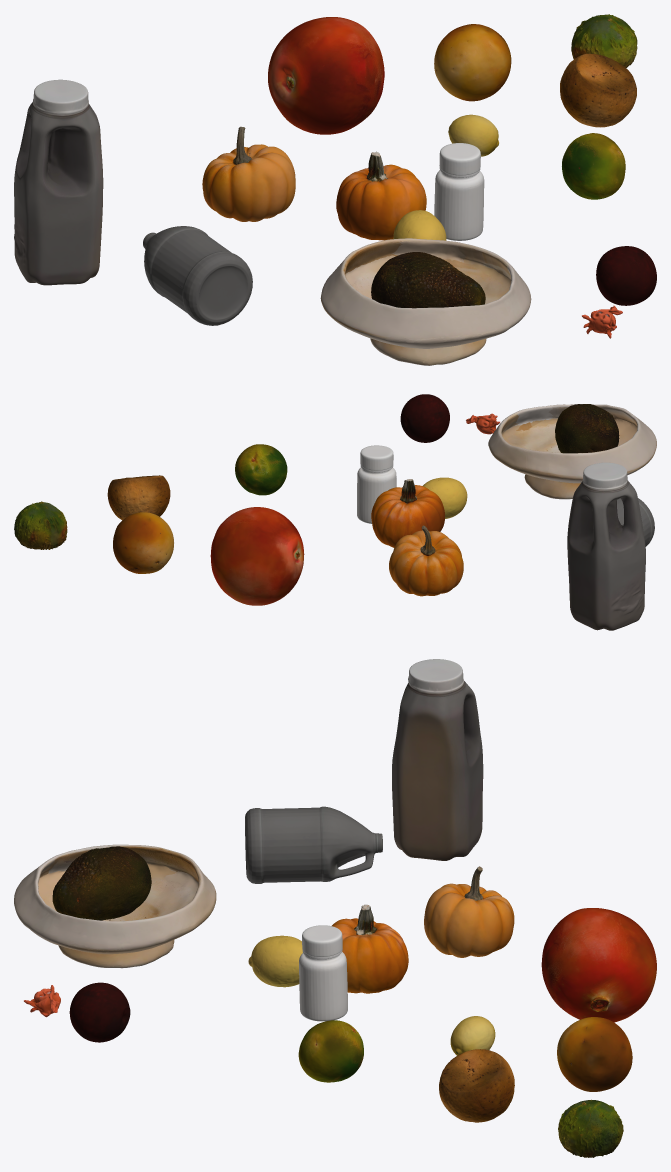
File: simfoundry.glb
The picture shows the model from 3 angles, top to bottom: view 1: azimuth 30°, elevation 25°; view 2: azimuth 150°, elevation 25°; view 3: azimuth 270°, elevation 25°; orthographic projection. The views are drawn at different scales.
Visible parts, largest first — view 1: gray_plastic_bottle_vklydo_link_iter_12_canonical_mesh_obj, white_bowl_awdfdw_link_iter_3_canonical_mesh_obj, red_pomegranate_uqorab_link_iter_13_canonical_mesh_obj, gray_plastic_jug_hryyqx_link_iter_8_canonical_mesh_obj, orange_pumpkin_klendf_link_iter_11_canonical_mesh_obj, orange_pumpkin_jcfxro_link_iter_7_canonical_mesh_obj, avocado_lrahun_link_iter_2_canonical_mesh_obj, orange_fruit_frlnzt_link_iter_14_canonical_mesh_obj, orange_fruit_xelutn_link_iter_9_canonical_mesh_obj, white_bottle_errjdg_link_iter_5_canonical_mesh_obj, green_lime_kcfnfc_link_iter_6_canonical_mesh_obj, red_onion_yjcrbx_link_iter_1_canonical_mesh_obj (+4 smaller); view 2: gray_plastic_bottle_vklydo_link_iter_12_canonical_mesh_obj, white_bowl_awdfdw_link_iter_3_canonical_mesh_obj, red_pomegranate_uqorab_link_iter_13_canonical_mesh_obj, orange_pumpkin_klendf_link_iter_11_canonical_mesh_obj, orange_pumpkin_jcfxro_link_iter_7_canonical_mesh_obj, orange_fruit_frlnzt_link_iter_14_canonical_mesh_obj, avocado_lrahun_link_iter_2_canonical_mesh_obj, orange_fruit_xelutn_link_iter_9_canonical_mesh_obj, white_bottle_errjdg_link_iter_5_canonical_mesh_obj, green_lime_kcfnfc_link_iter_6_canonical_mesh_obj, green_lime_drcyea_link_iter_15_canonical_mesh_obj, red_onion_yjcrbx_link_iter_1_canonical_mesh_obj (+3 smaller); view 3: gray_plastic_bottle_vklydo_link_iter_12_canonical_mesh_obj, white_bowl_awdfdw_link_iter_3_canonical_mesh_obj, red_pomegranate_uqorab_link_iter_13_canonical_mesh_obj, gray_plastic_jug_hryyqx_link_iter_8_canonical_mesh_obj, avocado_lrahun_link_iter_2_canonical_mesh_obj, orange_pumpkin_klendf_link_iter_11_canonical_mesh_obj, orange_fruit_frlnzt_link_iter_14_canonical_mesh_obj, orange_fruit_xelutn_link_iter_9_canonical_mesh_obj, orange_pumpkin_jcfxro_link_iter_7_canonical_mesh_obj, white_bottle_errjdg_link_iter_5_canonical_mesh_obj, green_lime_kcfnfc_link_iter_6_canonical_mesh_obj, green_lime_drcyea_link_iter_15_canonical_mesh_obj (+3 smaller).
Part boxes in pixels (bbox=[...]): gray_plastic_bottle_vklydo_link_iter_12_canonical_mesh_obj: bbox=[14, 79, 103, 285]; white_bowl_awdfdw_link_iter_3_canonical_mesh_obj: bbox=[320, 238, 531, 365]; red_pomegranate_uqorab_link_iter_13_canonical_mesh_obj: bbox=[268, 17, 384, 134]; gray_plastic_jug_hryyqx_link_iter_8_canonical_mesh_obj: bbox=[143, 226, 252, 325]; orange_pumpkin_klendf_link_iter_11_canonical_mesh_obj: bbox=[202, 126, 295, 221]; orange_pumpkin_jcfxro_link_iter_7_canonical_mesh_obj: bbox=[336, 151, 426, 240]; avocado_lrahun_link_iter_2_canonical_mesh_obj: bbox=[371, 252, 485, 308]; orange_fruit_frlnzt_link_iter_14_canonical_mesh_obj: bbox=[434, 24, 511, 101]; orange_fruit_xelutn_link_iter_9_canonical_mesh_obj: bbox=[560, 53, 636, 127]; white_bottle_errjdg_link_iter_5_canonical_mesh_obj: bbox=[434, 143, 484, 240]; green_lime_kcfnfc_link_iter_6_canonical_mesh_obj: bbox=[562, 133, 625, 199]; red_onion_yjcrbx_link_iter_1_canonical_mesh_obj: bbox=[596, 246, 656, 305]; gray_plastic_bottle_vklydo_link_iter_12_canonical_mesh_obj: bbox=[567, 462, 645, 630]; white_bowl_awdfdw_link_iter_3_canonical_mesh_obj: bbox=[488, 404, 656, 499]; red_pomegranate_uqorab_link_iter_13_canonical_mesh_obj: bbox=[210, 507, 304, 605]; orange_pumpkin_klendf_link_iter_11_canonical_mesh_obj: bbox=[389, 525, 463, 596]; orange_pumpkin_jcfxro_link_iter_7_canonical_mesh_obj: bbox=[371, 479, 444, 547]; orange_fruit_frlnzt_link_iter_14_canonical_mesh_obj: bbox=[113, 512, 173, 573]; avocado_lrahun_link_iter_2_canonical_mesh_obj: bbox=[555, 404, 619, 453]; orange_fruit_xelutn_link_iter_9_canonical_mesh_obj: bbox=[107, 475, 170, 520]; white_bottle_errjdg_link_iter_5_canonical_mesh_obj: bbox=[357, 445, 396, 523]; green_lime_kcfnfc_link_iter_6_canonical_mesh_obj: bbox=[235, 444, 287, 495]; green_lime_drcyea_link_iter_15_canonical_mesh_obj: bbox=[14, 501, 67, 549]; red_onion_yjcrbx_link_iter_1_canonical_mesh_obj: bbox=[400, 394, 449, 442]; gray_plastic_bottle_vklydo_link_iter_12_canonical_mesh_obj: bbox=[392, 659, 483, 860]; white_bowl_awdfdw_link_iter_3_canonical_mesh_obj: bbox=[14, 844, 216, 968]; red_pomegranate_uqorab_link_iter_13_canonical_mesh_obj: bbox=[541, 908, 656, 1022]; gray_plastic_jug_hryyqx_link_iter_8_canonical_mesh_obj: bbox=[245, 806, 382, 883]; avocado_lrahun_link_iter_2_canonical_mesh_obj: bbox=[52, 846, 151, 920]; orange_pumpkin_klendf_link_iter_11_canonical_mesh_obj: bbox=[424, 866, 514, 957]; orange_fruit_frlnzt_link_iter_14_canonical_mesh_obj: bbox=[557, 1017, 632, 1091]; orange_fruit_xelutn_link_iter_9_canonical_mesh_obj: bbox=[439, 1049, 514, 1122]; orange_pumpkin_jcfxro_link_iter_7_canonical_mesh_obj: bbox=[332, 904, 408, 993]; white_bottle_errjdg_link_iter_5_canonical_mesh_obj: bbox=[299, 925, 347, 1021]; green_lime_kcfnfc_link_iter_6_canonical_mesh_obj: bbox=[298, 1020, 363, 1082]; green_lime_drcyea_link_iter_15_canonical_mesh_obj: bbox=[558, 1099, 623, 1157].
Size of what is drawn, in the model's own units: 0.4468 by 0.1144 by 0.3648.
Materials: 16 (16 with a texture image).
